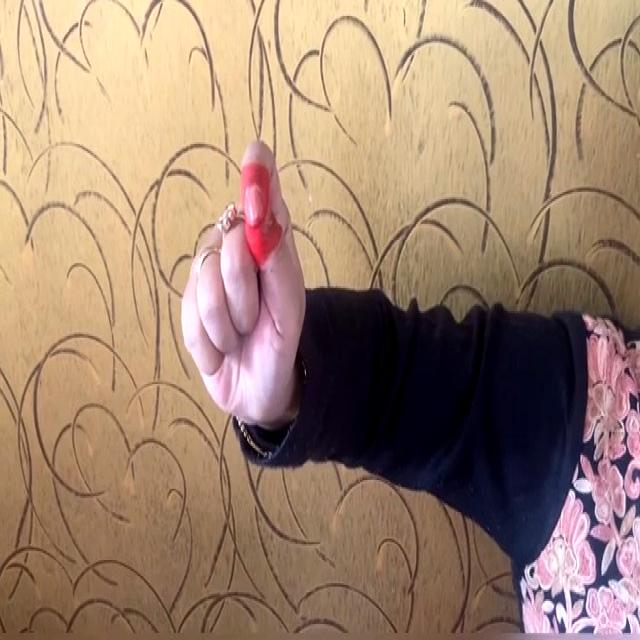Kapittha: (176, 112, 320, 443)
